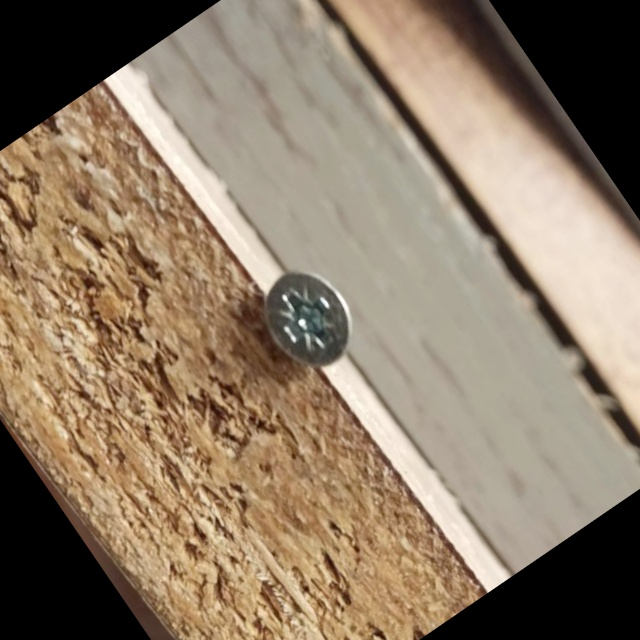pozidriv: (247, 255, 371, 384)
